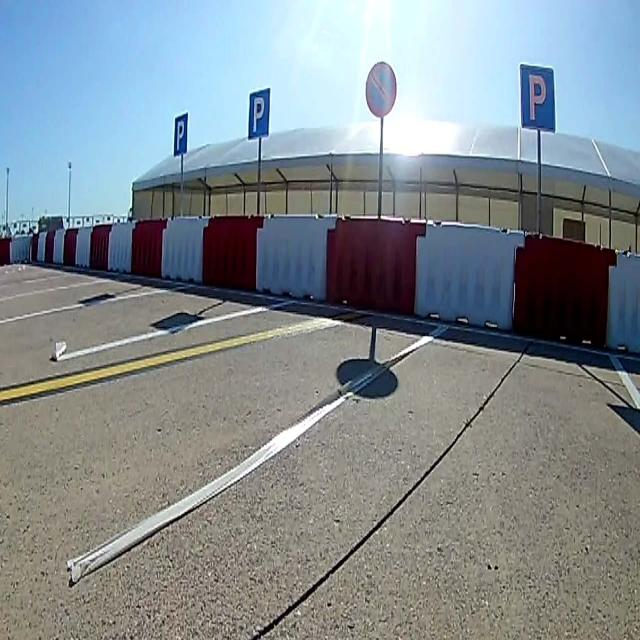park: (520, 63, 554, 132), (249, 88, 269, 136), (174, 111, 187, 153)
parkyasak: (366, 62, 396, 115)
